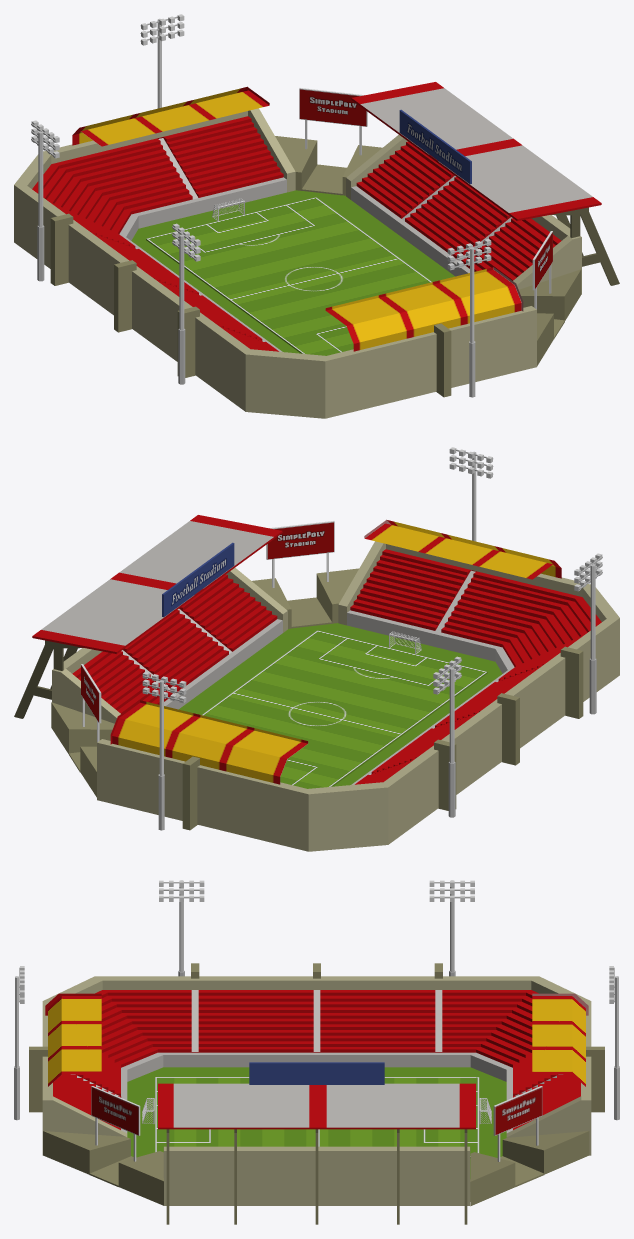
Rendered from building-stadium.glb.
3 views of the same model, one above another, from view 1: azimuth 30°, elevation 25°; view 2: azimuth 150°, elevation 25°; view 3: azimuth 270°, elevation 25° (orthographic). The views are drawn at different scales.
Parts seen in each view (by area): view 1: Building_Stadium; view 2: Building_Stadium; view 3: Building_Stadium.
Part boxes in pixels (x1,y1,x2,y2): Building_Stadium: [14, 14, 619, 418]; Building_Stadium: [14, 447, 619, 851]; Building_Stadium: [14, 880, 619, 1224].
Bounding box in the file's own units: 35.46 × 11.73 × 44.76.
1 material, 1 textured.
